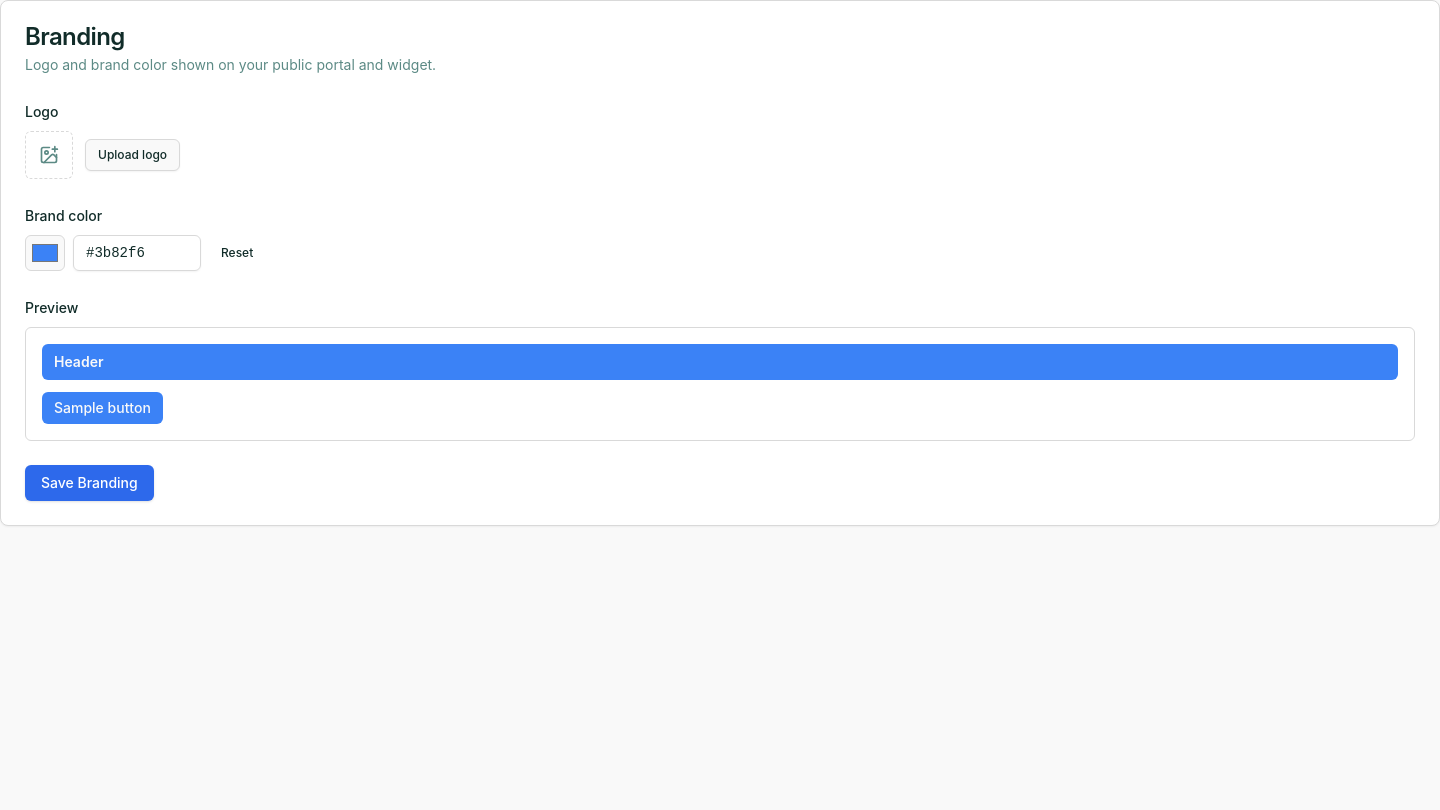
Test case: hex validation › valid hex re-enables Save
Type "nope" into the field labelled "Brand color" at (137, 253), box [73,235,201,271]
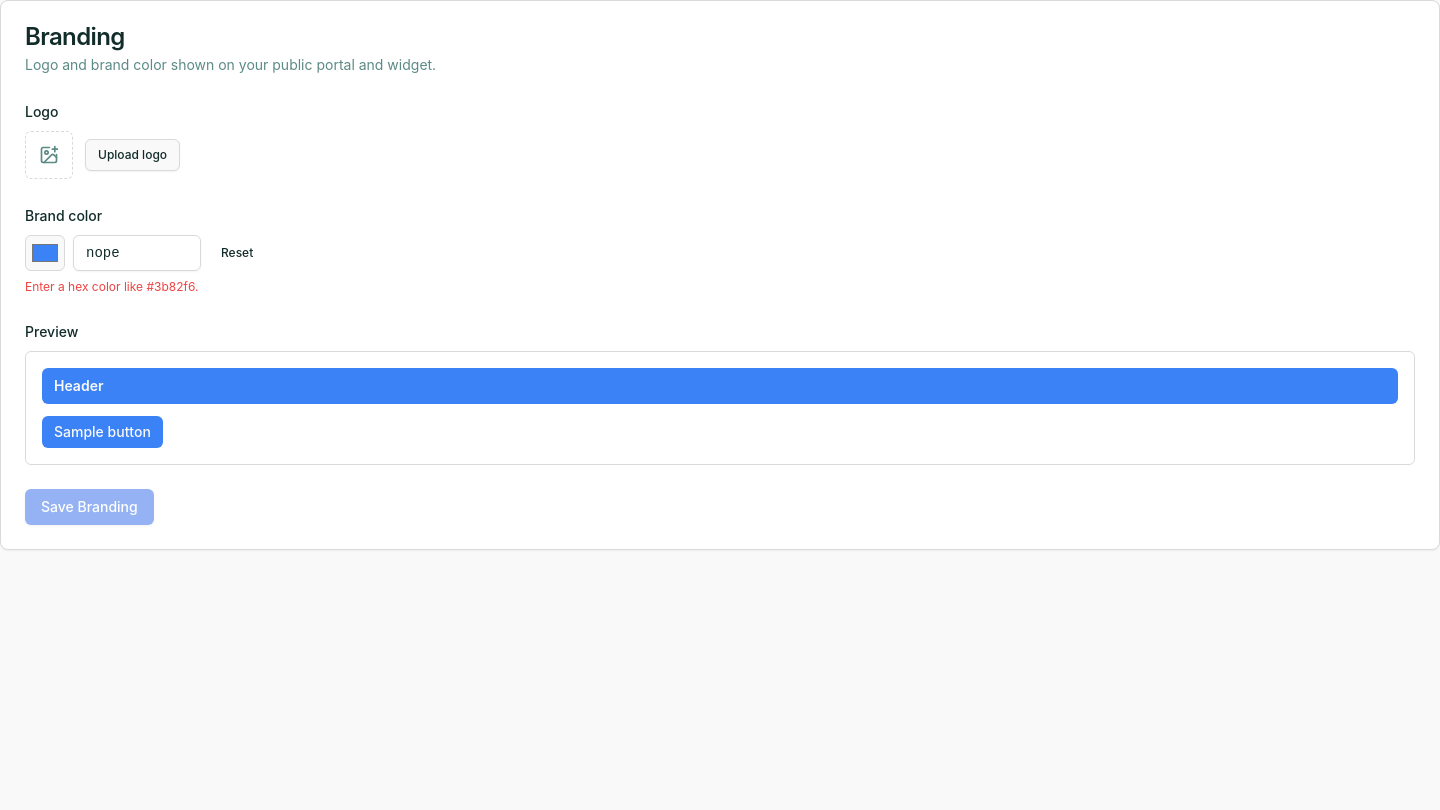
Replace the text in the field labelled "Brand color" with "#ABCDEF" at (137, 253), box [73,235,201,271]
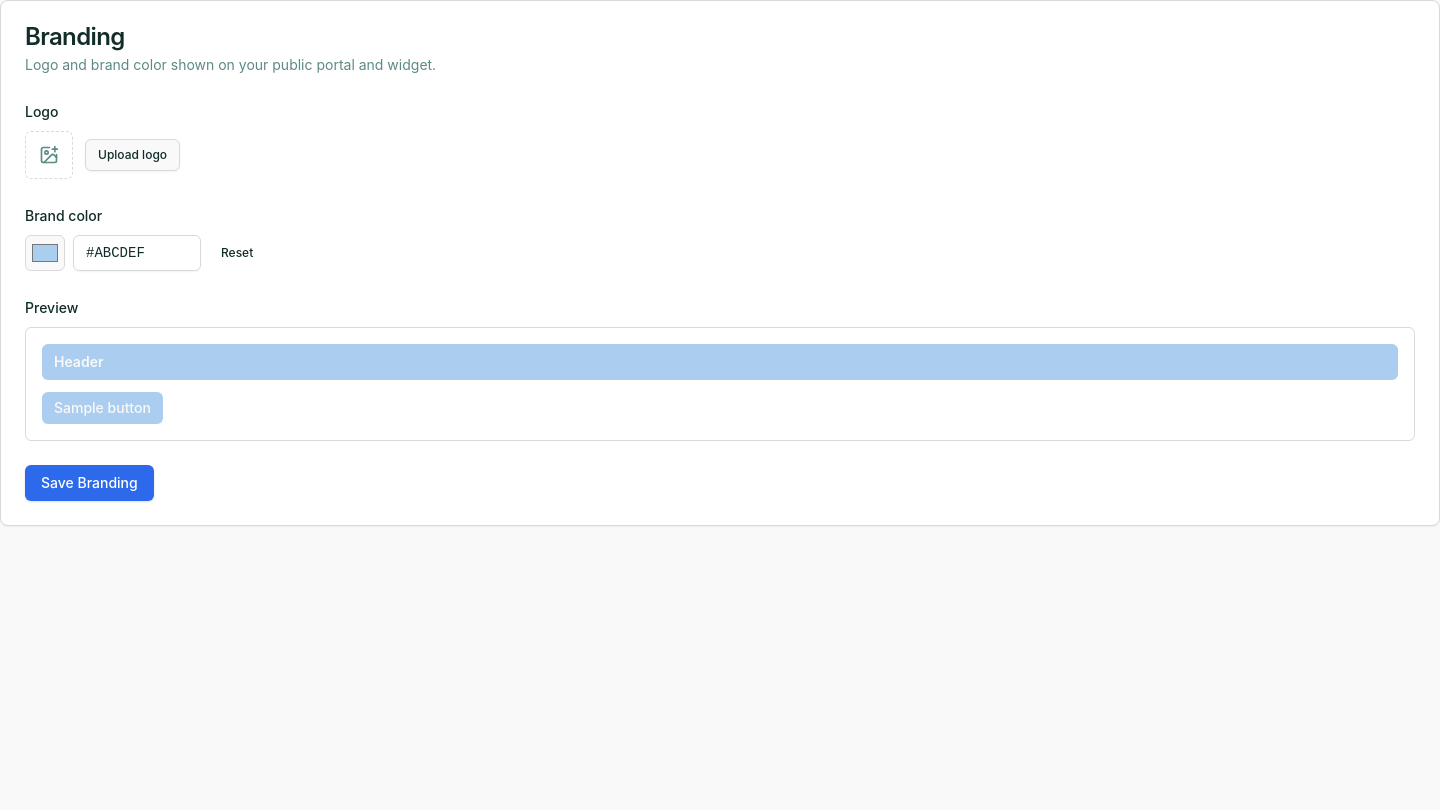
Expected: the button "Save Branding" is enabled, [25,465,154,501]
